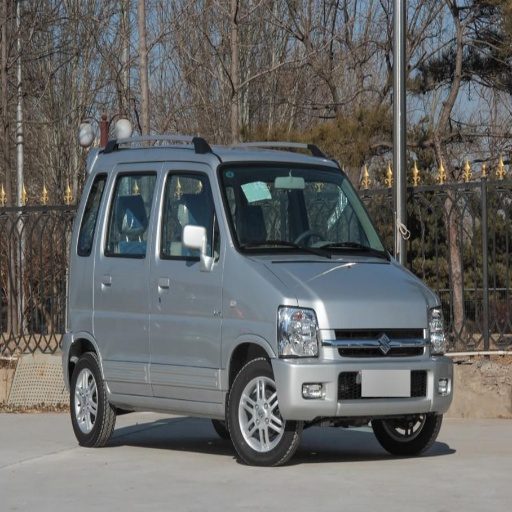front_bumper: (275, 307, 453, 430)
front_right_door: (149, 167, 220, 402), (112, 172, 156, 229)
front_right_light: (278, 303, 330, 358)
